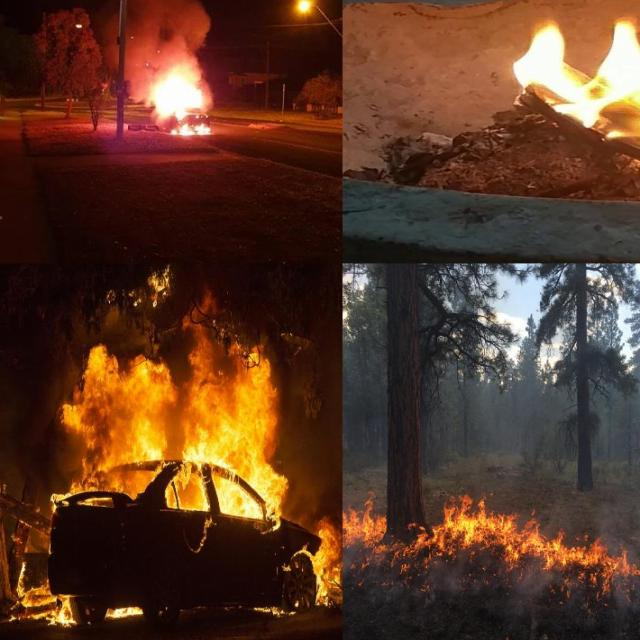fire: (50, 332, 292, 527), (514, 0, 640, 210), (3, 552, 77, 632), (298, 504, 342, 606), (148, 64, 210, 134), (392, 519, 449, 585), (342, 481, 390, 559), (442, 491, 494, 558), (495, 506, 547, 573), (548, 528, 606, 588), (605, 541, 640, 595)
smoke: (421, 376, 547, 490), (96, 0, 216, 62), (450, 560, 496, 610), (344, 557, 392, 603), (393, 584, 448, 624), (496, 573, 548, 615), (621, 357, 640, 465), (606, 596, 640, 639)
